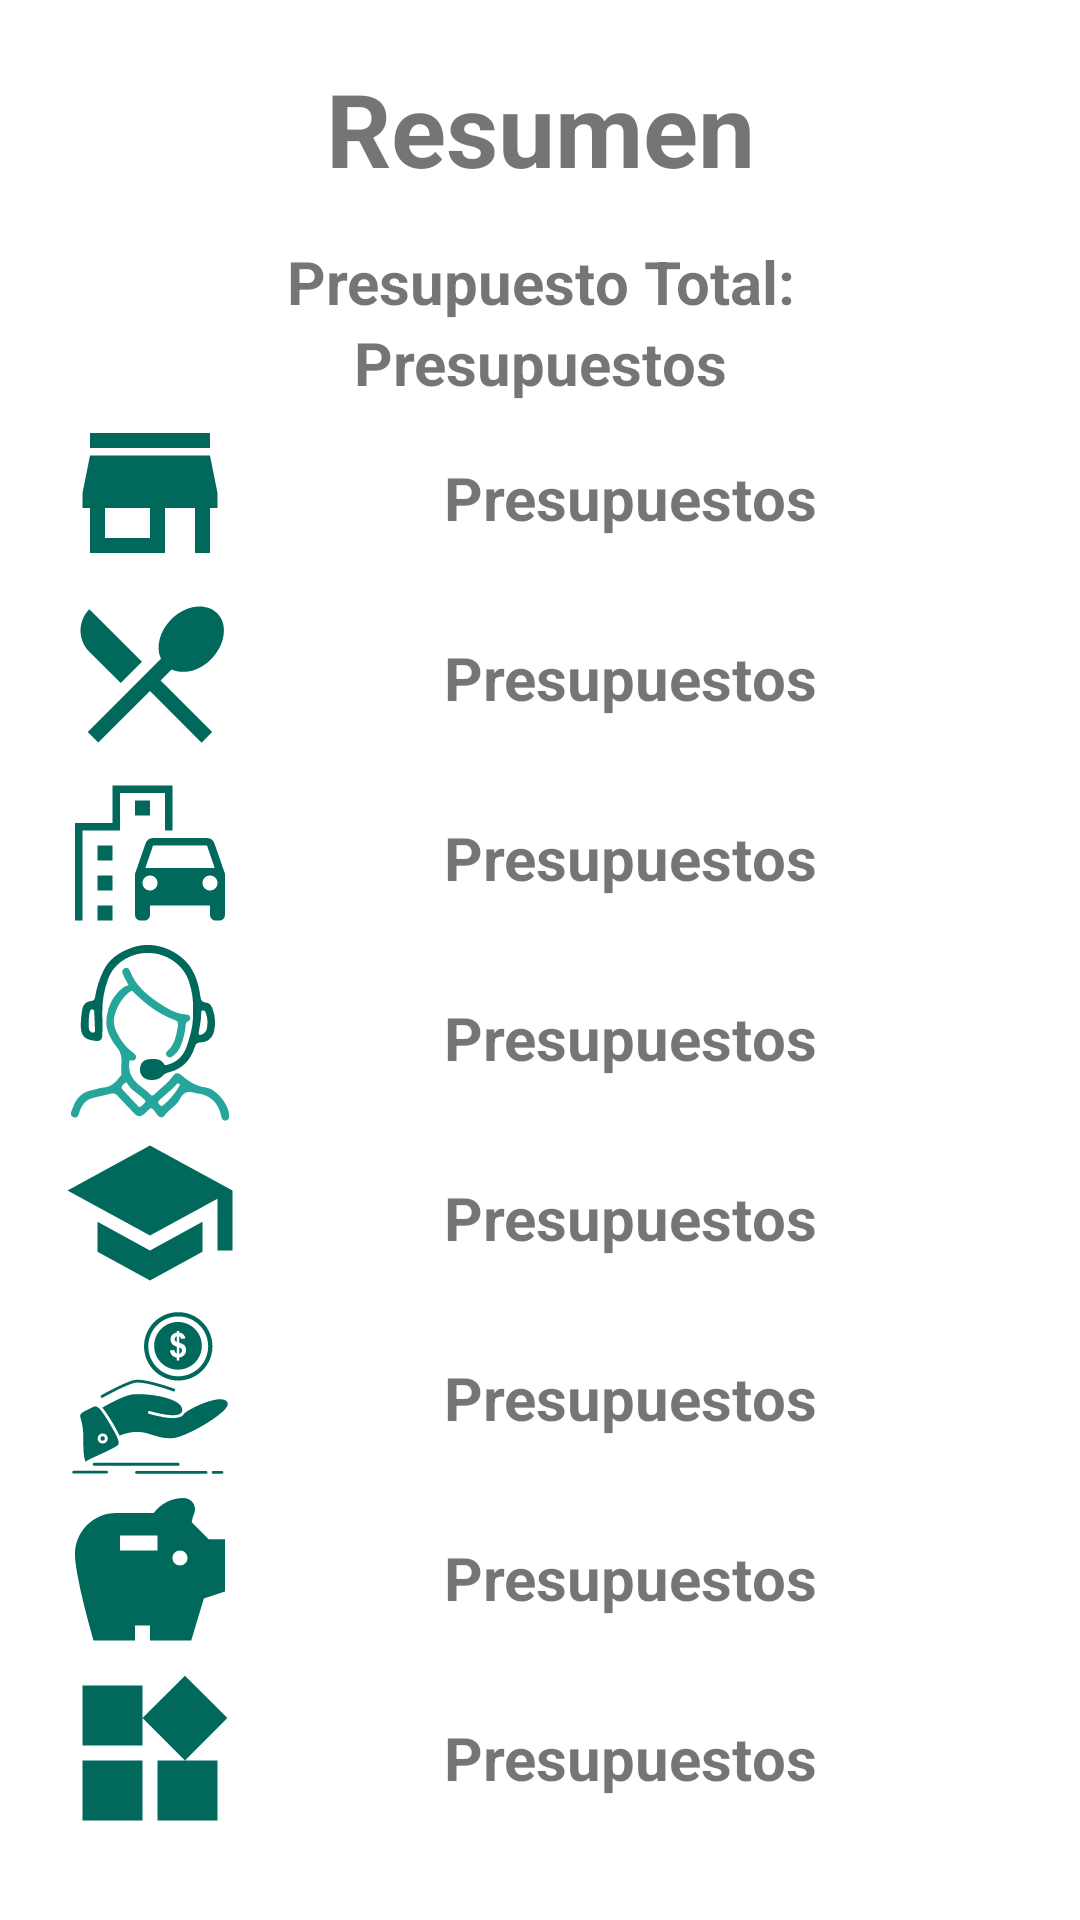

Icons on this 1080w x 1920h Android screen, each with its box as rect(x1, y1, x2, y2):
cat ahorros: rect(75, 1498, 225, 1641)
cat alimentacion: rect(80, 606, 224, 743)
cat arriendo: rect(82, 433, 218, 553)
cat deudas: rect(72, 1312, 228, 1474)
cat educacion: rect(67, 1145, 233, 1281)
cat otros: rect(82, 1676, 227, 1821)
cat servicios: rect(71, 945, 229, 1121)
cat transporte: rect(75, 785, 225, 921)
